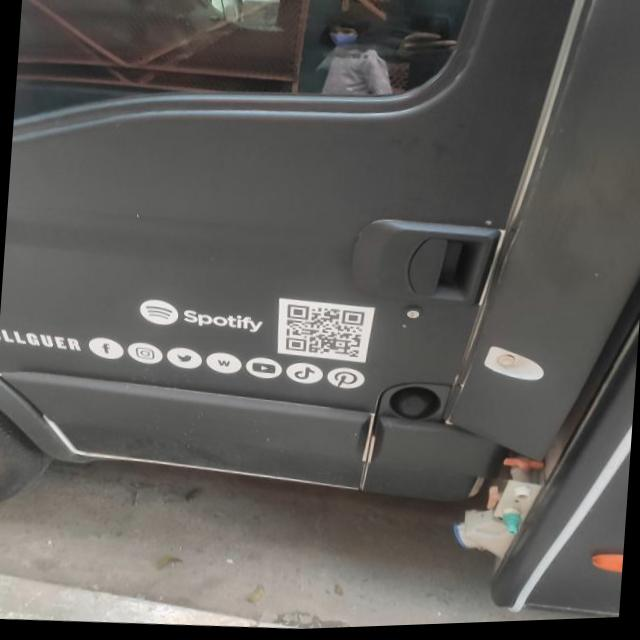qrcode: (285, 305, 365, 364)
